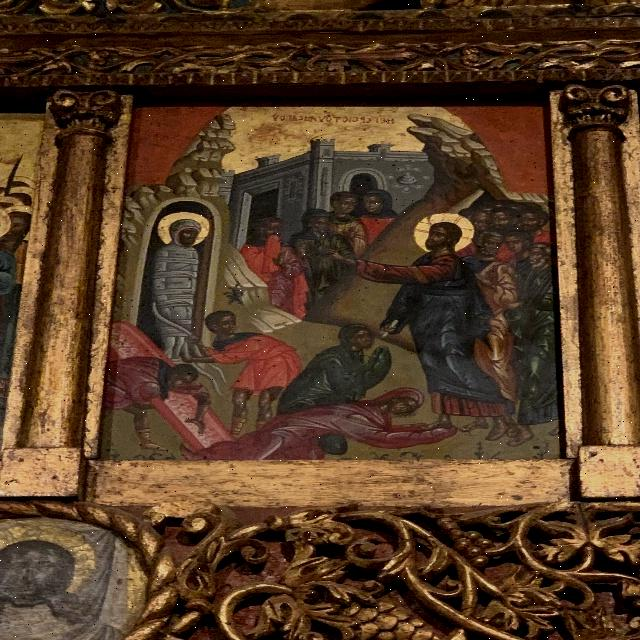aura: (415, 211, 474, 254), (158, 209, 206, 244)
christ: (404, 205, 523, 433)
lazarus_tomb: (144, 197, 207, 358)
